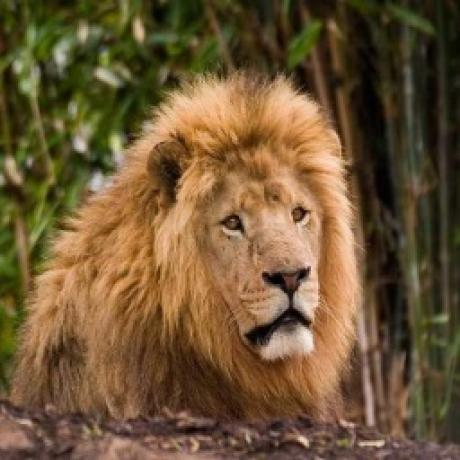Lion: (7, 62, 362, 435)
